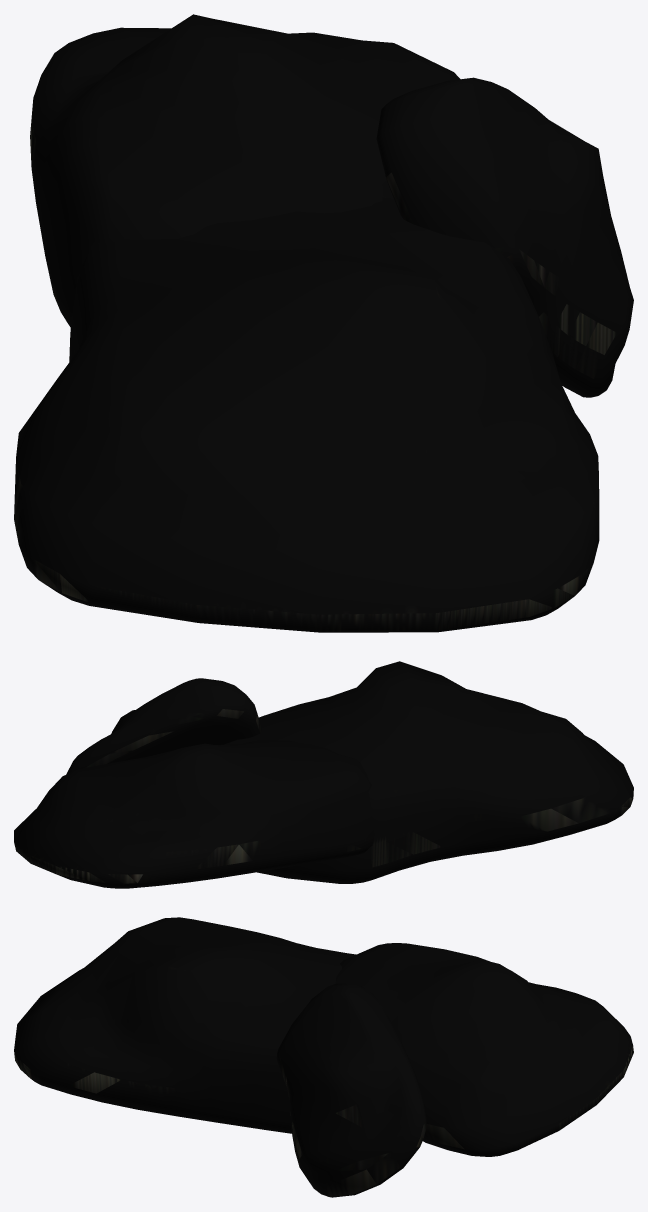
File: G11_ShahidRock.fbx
3 views of the same model, one above another, from view 1: azimuth 30°, elevation 25°; view 2: azimuth 150°, elevation 25°; view 3: azimuth 270°, elevation 25° (orthographic). The views are drawn at different scales.
Visible parts, largest first — view 1: node_id5; view 2: node_id5; view 3: node_id5.
Boxes of the visible parts, bbox=[...] form: node_id5: bbox=[14, 14, 633, 632]; node_id5: bbox=[14, 661, 633, 888]; node_id5: bbox=[14, 917, 633, 1197].
Size of the model in its own units: 0.3419 by 0.1349 by 0.4392.
1 material, 1 textured.
